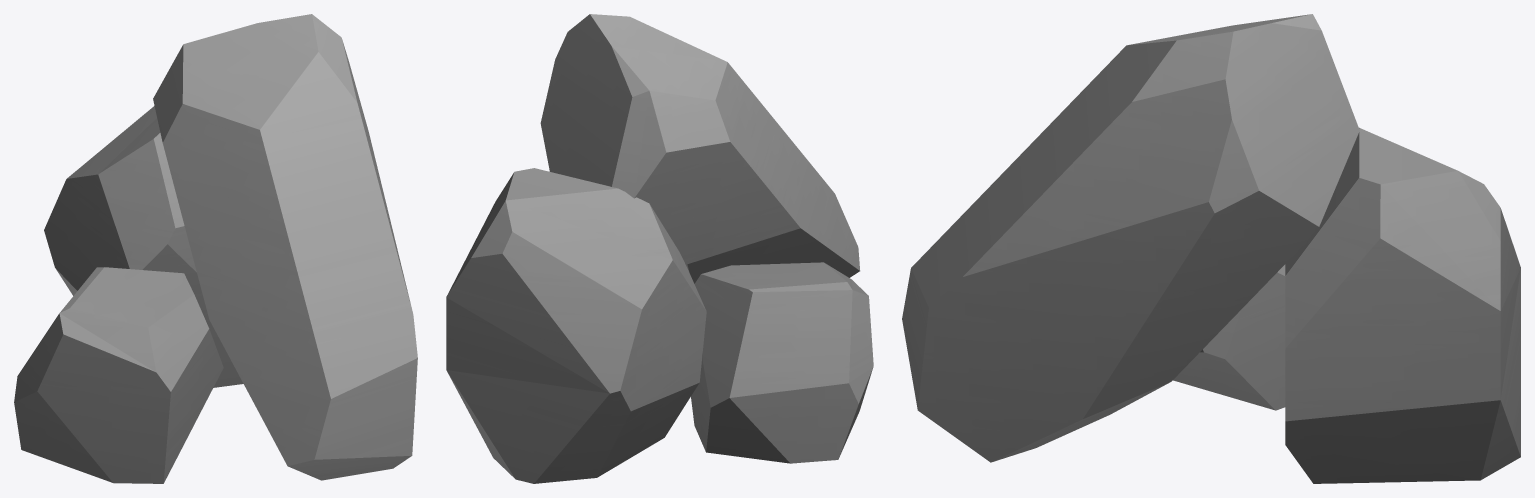
File: SM_Exterior_ConjuntoPiedras.fbx
3 renders of one model, left to right at view 1: azimuth 30°, elevation 25°; view 2: azimuth 150°, elevation 25°; view 3: azimuth 270°, elevation 25°, orthographic. The views are drawn at different scales.
Visible parts, largest first — view 1: SM_Exterior_ConjuntoPiedras; view 2: SM_Exterior_ConjuntoPiedras; view 3: SM_Exterior_ConjuntoPiedras.
Part boxes in pixels (bbox=[...]): SM_Exterior_ConjuntoPiedras: bbox=[14, 14, 417, 483]; SM_Exterior_ConjuntoPiedras: bbox=[446, 14, 873, 483]; SM_Exterior_ConjuntoPiedras: bbox=[902, 14, 1520, 483].
Bounding box in the file's own units: 137 × 151 × 185.
